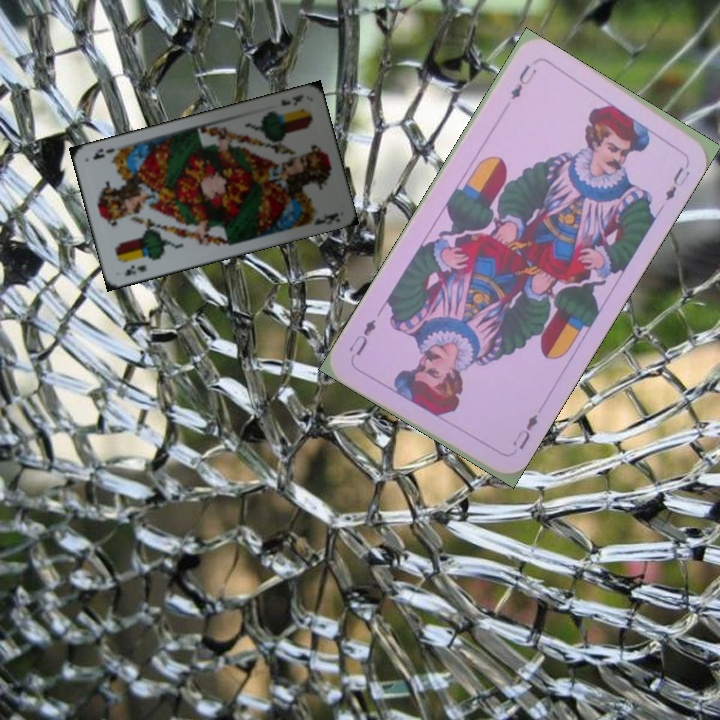EK: (120, 260, 149, 279), (277, 90, 306, 109)
EU: (506, 409, 541, 457), (506, 60, 539, 103)
